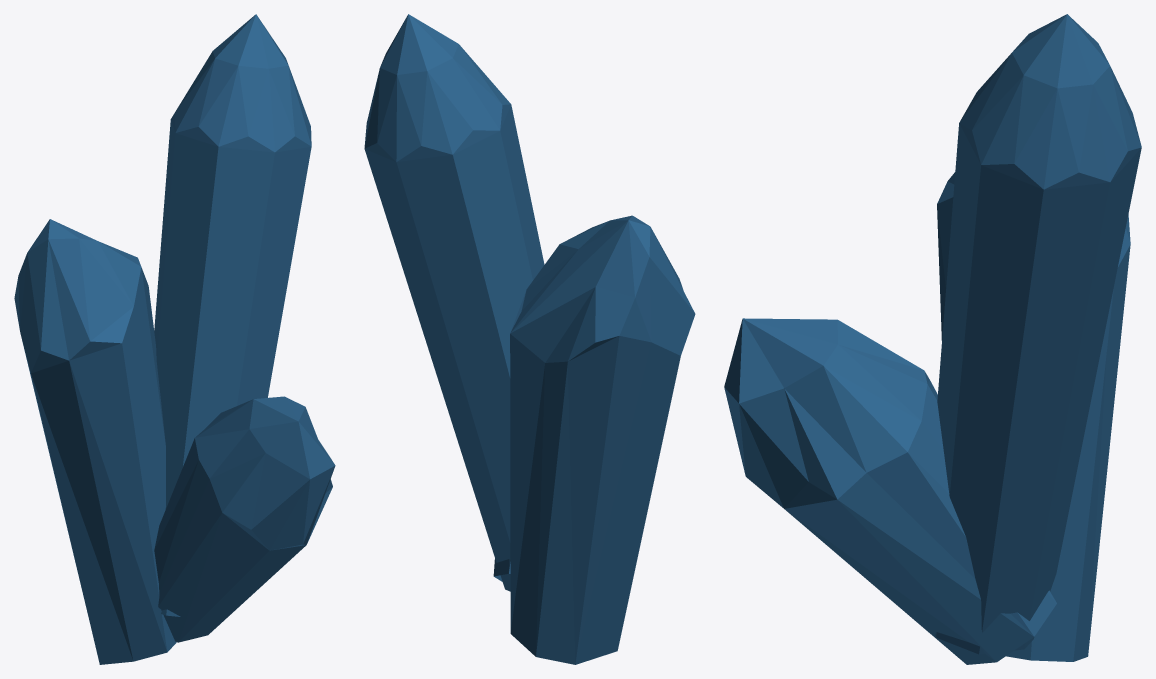
File: smallCrystal1.obj
3 views of the same model, side by side, from view 1: azimuth 30°, elevation 25°; view 2: azimuth 150°, elevation 25°; view 3: azimuth 270°, elevation 25° (orthographic). The views are drawn at different scales.
Visible parts, largest first — view 1: SmallCrystal_Cone.028; view 2: SmallCrystal_Cone.028; view 3: SmallCrystal_Cone.028.
Boxes of the visible parts, left/top/right/bottom form: SmallCrystal_Cone.028: left=14, top=14, right=335, bottom=664; SmallCrystal_Cone.028: left=364, top=14, right=695, bottom=664; SmallCrystal_Cone.028: left=724, top=14, right=1141, bottom=664.
Size of the model in its own units: 2.36 by 4.62 by 2.39.
